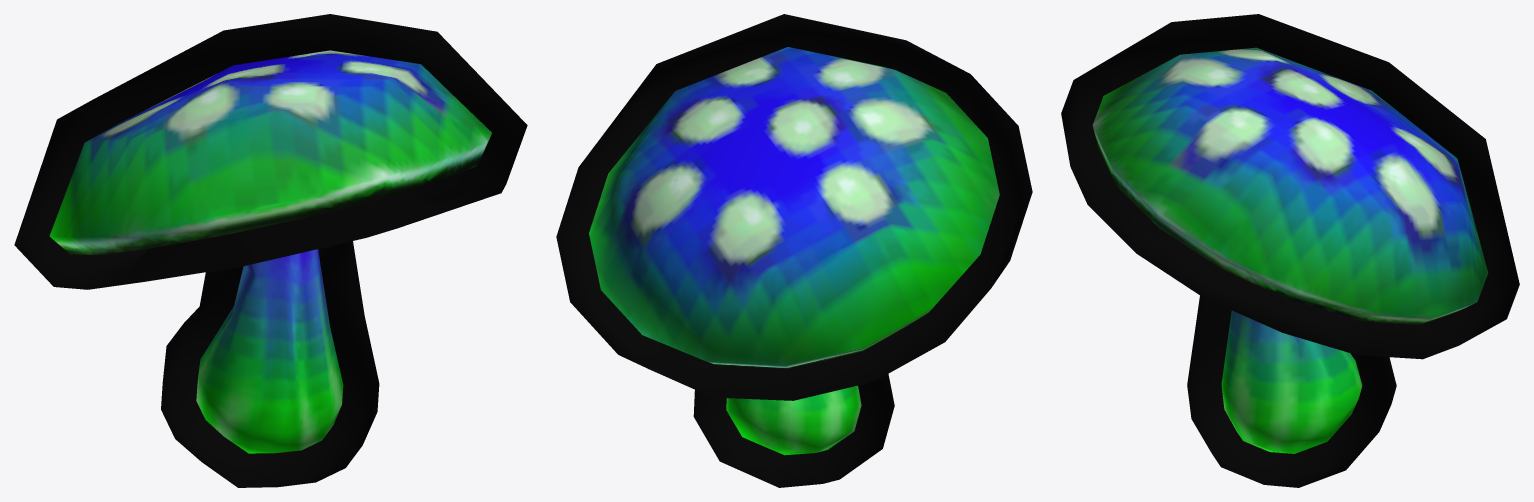
The model's file is HEALTH.fbx.
The picture shows the model from 3 angles, left to right: view 1: azimuth 30°, elevation 25°; view 2: azimuth 150°, elevation 25°; view 3: azimuth 270°, elevation 25°; orthographic projection. The views are drawn at different scales.
Parts seen in each view (by area): view 1: HEALTH; view 2: HEALTH; view 3: HEALTH.
Boxes of the visible parts, x1,y1,x2,y2 form: HEALTH: (14, 14, 527, 487); HEALTH: (556, 14, 1032, 487); HEALTH: (1061, 14, 1519, 487).
Size of the model in its own units: 3839 by 3598 by 3521.
2 materials, 2 textured.
